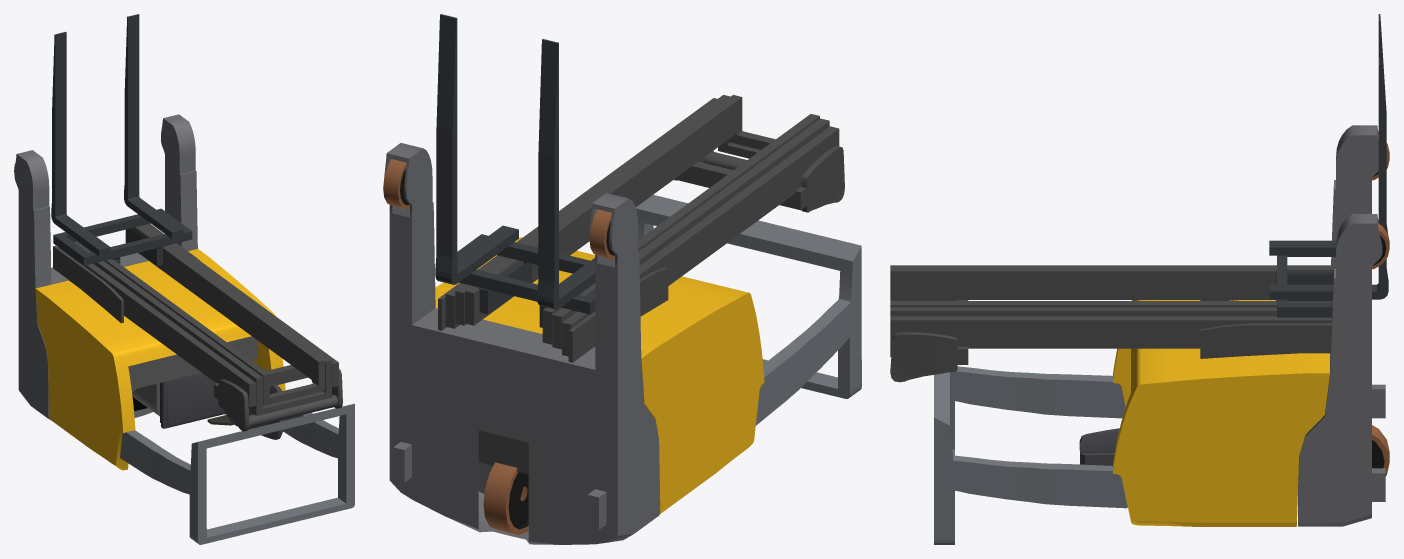
File: Forklift.glb
3 renders of one model, left to right at view 1: azimuth 30°, elevation 25°; view 2: azimuth 150°, elevation 25°; view 3: azimuth 270°, elevation 25°, orthographic. The views are drawn at different scales.
Parts seen in each view (by area): view 1: Chassis, Fork, MainMast, ThirdMast, SecondMast, ForkSupport; view 2: Chassis, MainMast, Fork, ThirdMast, SecondMast, ForkSupport; view 3: Chassis, MainMast, ThirdMast, Fork, SecondMast, ForkSupport.
Part boxes in pixels (x1,y1,x2,y2): Chassis: [14, 114, 354, 544]; Fork: [51, 14, 192, 265]; MainMast: [53, 223, 342, 431]; ThirdMast: [77, 226, 324, 405]; SecondMast: [74, 224, 331, 415]; ForkSupport: [112, 227, 163, 265]; Chassis: [383, 143, 861, 544]; MainMast: [438, 98, 844, 474]; Fork: [435, 14, 595, 314]; ThirdMast: [465, 95, 819, 344]; SecondMast: [455, 95, 829, 349]; ForkSupport: [479, 260, 545, 327]; Chassis: [934, 125, 1389, 544]; MainMast: [890, 300, 1332, 382]; ThirdMast: [890, 267, 1335, 307]; Fork: [1269, 14, 1388, 317]; SecondMast: [890, 265, 1335, 357]; ForkSupport: [1276, 270, 1333, 301].
Size of the model in its own units: 5.24 by 11.43 by 11.25.
